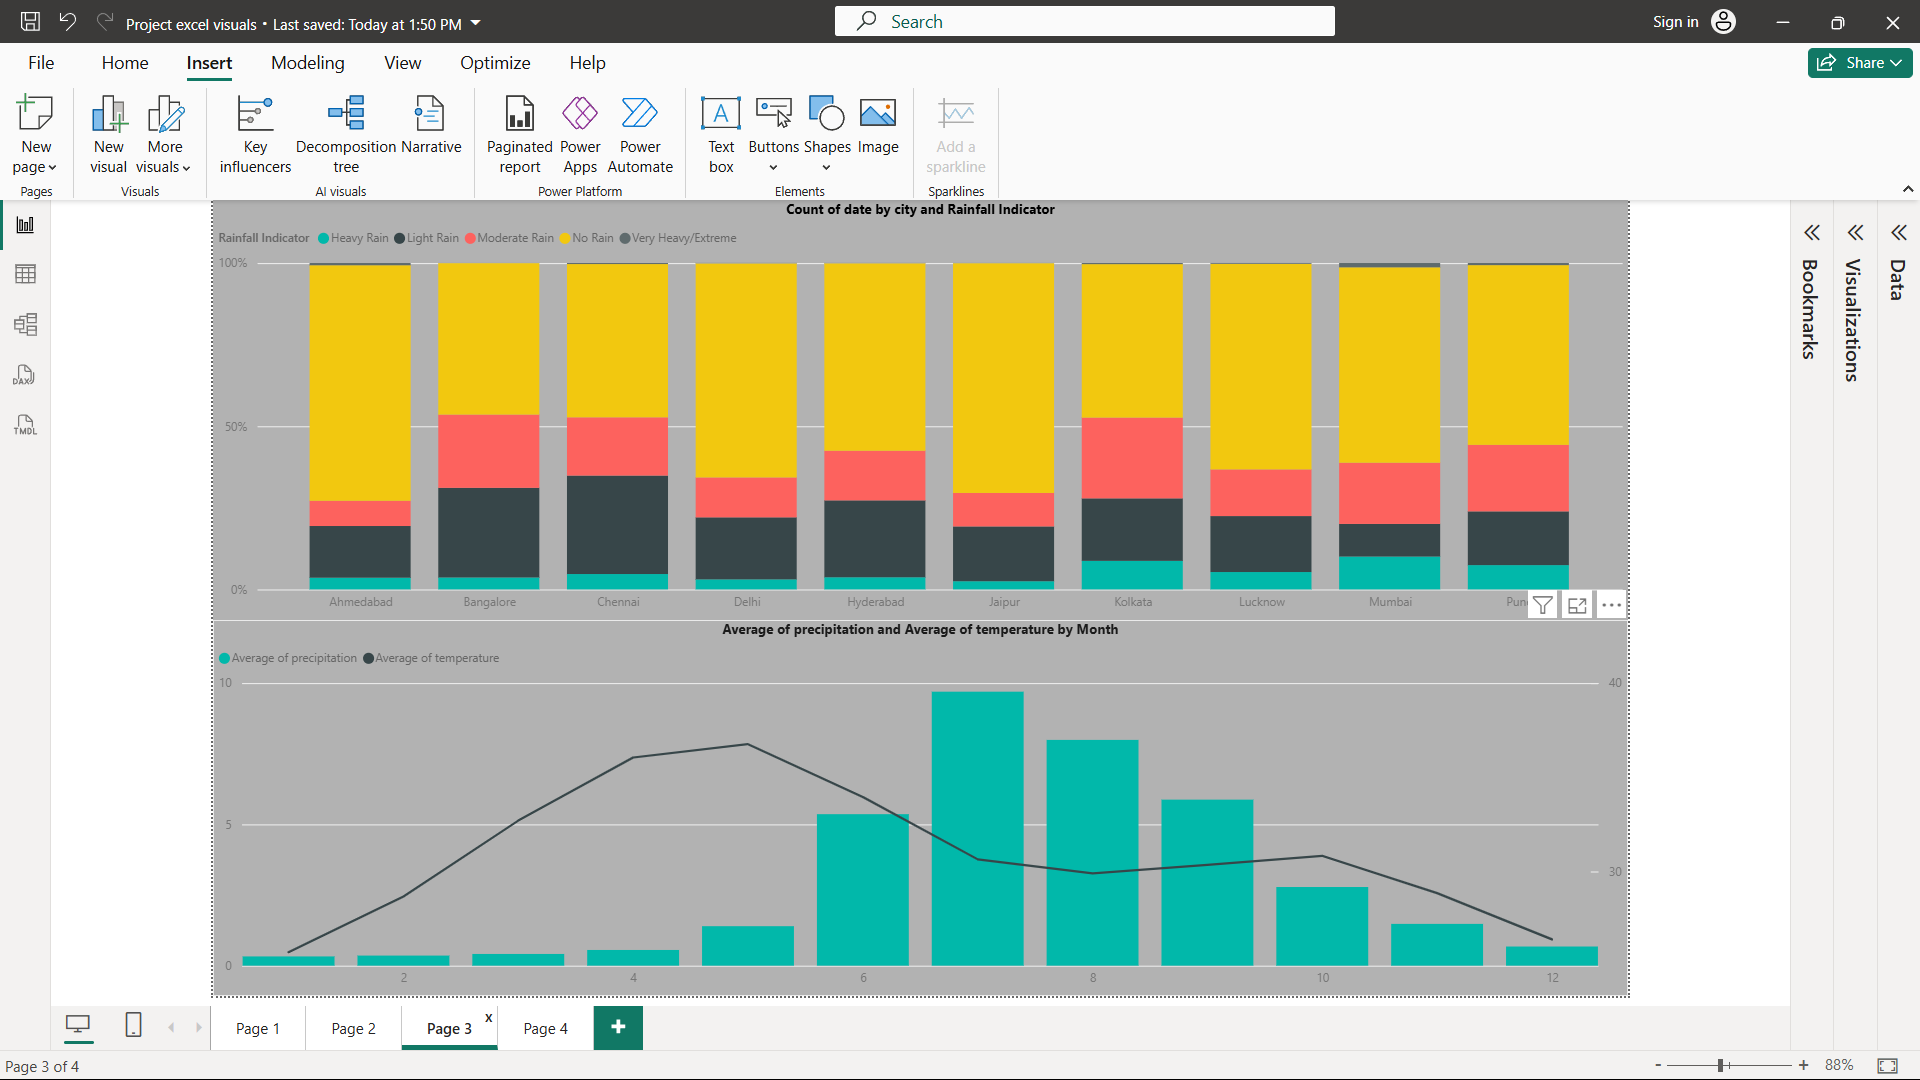

Layout of this report page (visuals, bound fields, positions):
{"tool":"powerbi","page":{"name":"Page 3","canvas":[1280,720],"ordinal":2},"visuals":[{"type":"hundredPercentStackedColumnChart","fields":{"Category":["india_2000_2024_daily_weather_csv.city"],"Series":["india_2000_2024_daily_weather_csv.Rainfall Indicator"],"Y":["CountNonNull(india_2000_2024_daily_weather_csv.date)"]},"box":[10,0,1270,280],"z":0},{"type":"lineStackedColumnComboChart","fields":{"Category":["india_2000_2024_daily_weather_csv.Month"],"Y":["Avg(india_2000_2024_daily_weather_csv.precipitation_sum)"],"Y2":["Avg(india_2000_2024_daily_weather_csv.temperature_2m_max)"]},"box":[10,290,1270,280],"z":1000}]}

Visuals, with their boxes on the page's 1280x720 design canvas (x1, y1, x2, y2). These are canvas units, not pixel positions in the 1920x1080 screenshot, which may show the page scaled, cropped or inside an application window:
hundredPercentStackedColumnChart - india_2000_2024_daily_weather_csv.city x india_2000_2024_daily_weather_csv.Rainfall Indicator: box=[10, 0, 1280, 280]
lineStackedColumnComboChart - india_2000_2024_daily_weather_csv.Month x Avg(india_2000_2024_daily_weather_csv.precipitation_sum): box=[10, 290, 1280, 570]
